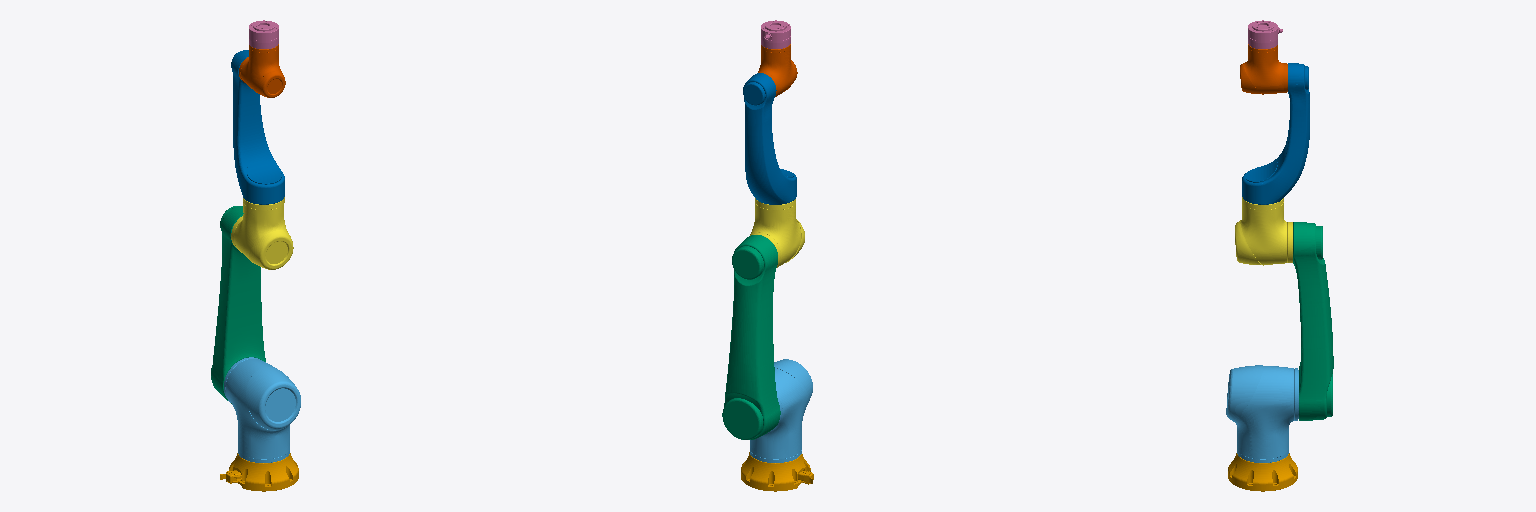
The robot description file, URDF, robot "CL110_CAD":
<?xml version="1.0" ?>
<robot name="CL110_CAD">

<link name="base_link">
  <inertial>
    <origin xyz="0.0020443369238353336 0.032031449819426544 -0.005484653052624675" rpy="0 0 0"/>
    <mass value="6.948667147505599"/>
    <inertia ixx="0.02378" iyy="0.022432" izz="0.042073" ixy="-5e-06" iyz="1e-06" ixz="0.000184"/>
  </inertial>
  <visual>
    <origin xyz="0 0 0" rpy="0 0 0"/>
    <geometry>
      <mesh filename="package://CL110_CAD_description/meshes/base_link.stl" scale="0.001 0.001 0.001"/>
    </geometry>
    <material name="silver"/>
  </visual>
  <collision>
    <origin xyz="0 0 0" rpy="0 0 0"/>
    <geometry>
      <mesh filename="package://CL110_CAD_description/meshes/base_link.stl" scale="0.001 0.001 0.001"/>
    </geometry>
  </collision>
</link>

<link name="link1_1">
  <inertial>
    <origin xyz="-2.539850796389549e-05 0.03174838191565383 0.11047110734888961" rpy="0 0 0"/>
    <mass value="26.50192961091554"/>
    <inertia ixx="0.295895" iyy="0.248198" izz="0.140838" ixy="-4.2e-05" iyz="-0.06183" ixz="2.3e-05"/>
  </inertial>
  <visual>
    <origin xyz="0.000379 -0.032033 -0.045088" rpy="0 0 0"/>
    <geometry>
      <mesh filename="package://CL110_CAD_description/meshes/link1_1.stl" scale="0.001 0.001 0.001"/>
    </geometry>
    <material name="silver"/>
  </visual>
  <collision>
    <origin xyz="0.000379 -0.032033 -0.045088" rpy="0 0 0"/>
    <geometry>
      <mesh filename="package://CL110_CAD_description/meshes/link1_1.stl" scale="0.001 0.001 0.001"/>
    </geometry>
  </collision>
</link>

<link name="link2_1">
  <inertial>
    <origin xyz="-5.783070392282913e-06 0.015355704260563763 0.20971244422320956" rpy="0 0 0"/>
    <mass value="16.195043980306405"/>
    <inertia ixx="0.577816" iyy="0.587265" izz="0.039298" ixy="-5e-06" iyz="0.03112" ixz="7.3e-05"/>
  </inertial>
  <visual>
    <origin xyz="0.000379 -0.166533 -0.227588" rpy="0 0 0"/>
    <geometry>
      <mesh filename="package://CL110_CAD_description/meshes/link2_1.stl" scale="0.001 0.001 0.001"/>
    </geometry>
    <material name="silver"/>
  </visual>
  <collision>
    <origin xyz="0.000379 -0.166533 -0.227588" rpy="0 0 0"/>
    <geometry>
      <mesh filename="package://CL110_CAD_description/meshes/link2_1.stl" scale="0.001 0.001 0.001"/>
    </geometry>
  </collision>
</link>

<link name="link3_1">
  <inertial>
    <origin xyz="3.69333761139417e-05 -0.08919811679725928 0.05666153234437854" rpy="0 0 0"/>
    <mass value="13.483560625053732"/>
    <inertia ixx="0.096515" iyy="0.078036" izz="0.048202" ixy="7e-06" iyz="0.018307" ixz="2.1e-05"/>
  </inertial>
  <visual>
    <origin xyz="0.000379 -0.145033 -0.707588" rpy="0 0 0"/>
    <geometry>
      <mesh filename="package://CL110_CAD_description/meshes/link3_1.stl" scale="0.001 0.001 0.001"/>
    </geometry>
    <material name="silver"/>
  </visual>
  <collision>
    <origin xyz="0.000379 -0.145033 -0.707588" rpy="0 0 0"/>
    <geometry>
      <mesh filename="package://CL110_CAD_description/meshes/link3_1.stl" scale="0.001 0.001 0.001"/>
    </geometry>
  </collision>
</link>

<link name="link4_1">
  <inertial>
    <origin xyz="-6.199176866582496e-06 0.061690239106159096 0.12732079659625384" rpy="0 0 0"/>
    <mass value="7.45163371296972"/>
    <inertia ixx="0.13763" iyy="0.12511" izz="0.02704" ixy="-1e-06" iyz="-0.033956" ixz="-8e-06"/>
  </inertial>
  <visual>
    <origin xyz="0.000379 -0.032033 -0.884588" rpy="0 0 0"/>
    <geometry>
      <mesh filename="package://CL110_CAD_description/meshes/link4_1.stl" scale="0.001 0.001 0.001"/>
    </geometry>
    <material name="silver"/>
  </visual>
  <collision>
    <origin xyz="0.000379 -0.032033 -0.884588" rpy="0 0 0"/>
    <geometry>
      <mesh filename="package://CL110_CAD_description/meshes/link4_1.stl" scale="0.001 0.001 0.001"/>
    </geometry>
  </collision>
</link>

<link name="link5_1">
  <inertial>
    <origin xyz="-9.959388625885356e-06 -0.069166005091335 0.042457639016239" rpy="0 0 0"/>
    <mass value="6.013138327914528"/>
    <inertia ixx="0.025811" iyy="0.019705" izz="0.012839" ixy="-5e-06" iyz="0.005428" ixz="1e-06"/>
  </inertial>
  <visual>
    <origin xyz="0.000379 -0.122033 -1.227588" rpy="0 0 0"/>
    <geometry>
      <mesh filename="package://CL110_CAD_description/meshes/link5_1.stl" scale="0.001 0.001 0.001"/>
    </geometry>
    <material name="silver"/>
  </visual>
  <collision>
    <origin xyz="0.000379 -0.122033 -1.227588" rpy="0 0 0"/>
    <geometry>
      <mesh filename="package://CL110_CAD_description/meshes/link5_1.stl" scale="0.001 0.001 0.001"/>
    </geometry>
  </collision>
</link>

<link name="link6_1">
  <inertial>
    <origin xyz="2.0557915098286196e-05 0.0004825157373782793 0.006553942053700412" rpy="0 0 0"/>
    <mass value="1.6111944965258764"/>
    <inertia ixx="0.001051" iyy="0.001016" izz="0.00166" ixy="0.0" iyz="-1e-06" ixz="-1e-06"/>
  </inertial>
  <visual>
    <origin xyz="0.000379 -0.032033 -1.367588" rpy="0 0 0"/>
    <geometry>
      <mesh filename="package://CL110_CAD_description/meshes/link6_1.stl" scale="0.001 0.001 0.001"/>
    </geometry>
    <material name="silver"/>
  </visual>
  <collision>
    <origin xyz="0.000379 -0.032033 -1.367588" rpy="0 0 0"/>
    <geometry>
      <mesh filename="package://CL110_CAD_description/meshes/link6_1.stl" scale="0.001 0.001 0.001"/>
    </geometry>
  </collision>
</link>

<joint name="j1" type="continuous">
  <origin xyz="-0.000379 0.032033 0.045088" rpy="0 0 0"/>
  <parent link="base_link"/>
  <child link="link1_1"/>
  <axis xyz="-0.0 0.0 -1.0"/>
</joint>

<joint name="j2" type="continuous">
  <origin xyz="0.0 0.1345 0.1825" rpy="0 0 0"/>
  <parent link="link1_1"/>
  <child link="link2_1"/>
  <axis xyz="-0.0 1.0 0.0"/>
</joint>

<joint name="j3" type="continuous">
  <origin xyz="0.0 -0.0215 0.48" rpy="0 0 0"/>
  <parent link="link2_1"/>
  <child link="link3_1"/>
  <axis xyz="-0.0 1.0 -0.0"/>
</joint>

<joint name="j4" type="continuous">
  <origin xyz="0.0 -0.113 0.177" rpy="0 0 0"/>
  <parent link="link3_1"/>
  <child link="link4_1"/>
  <axis xyz="0.0 0.0 1.0"/>
</joint>

<joint name="j5" type="continuous">
  <origin xyz="0.0 0.09 0.343" rpy="0 0 0"/>
  <parent link="link4_1"/>
  <child link="link5_1"/>
  <axis xyz="-0.0 1.0 0.0"/>
</joint>

<joint name="j6" type="continuous">
  <origin xyz="0.0 -0.09 0.14" rpy="0 0 0"/>
  <parent link="link5_1"/>
  <child link="link6_1"/>
  <axis xyz="0.0 0.0 1.0"/>
</joint>

</robot>

--- Render facts (derived) ---
The picture shows the robot from 3 angles, left to right: view 1: azimuth 30°, elevation 25°; view 2: azimuth 150°, elevation 25°; view 3: azimuth 270°, elevation 25°; orthographic projection.
Model CL110_CAD with 7 links and 6 joints (6 continuous), rooted at base_link, posed every joint at zero.
Links seen in each view (by area): view 1: link1_1, link2_1, link4_1, link3_1, base_link, link5_1, link6_1; view 2: link2_1, link4_1, link1_1, link3_1, base_link, link5_1, link6_1; view 3: link2_1, link1_1, link4_1, link3_1, base_link, link5_1, link6_1.
Link boxes in pixels (box(x1,y1,x2,y2)): link1_1: box(224, 357, 300, 462); link2_1: box(211, 206, 265, 403); link4_1: box(231, 50, 284, 204); link3_1: box(231, 197, 293, 269); base_link: box(220, 453, 298, 491); link5_1: box(239, 44, 285, 97); link6_1: box(249, 20, 278, 48); link2_1: box(722, 235, 780, 439); link4_1: box(743, 73, 796, 204); link1_1: box(750, 359, 812, 462); link3_1: box(750, 198, 804, 267); base_link: box(741, 452, 813, 491); link5_1: box(758, 44, 797, 96); link6_1: box(761, 20, 790, 48); link2_1: box(1293, 222, 1333, 420); link1_1: box(1226, 365, 1298, 462); link4_1: box(1242, 63, 1309, 204); link3_1: box(1235, 197, 1292, 265); base_link: box(1228, 453, 1297, 491); link5_1: box(1240, 44, 1287, 94); link6_1: box(1248, 20, 1282, 48).
Size in the robot's own frame: 0.2344 by 0.3072 by 1.43 metres.
7 mesh visuals loaded from 7 distinct referenced files (7 binary STL).
